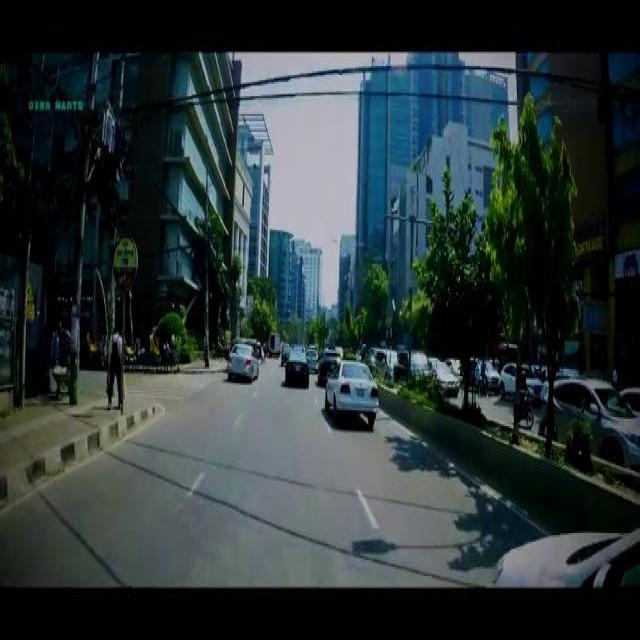bike: (511, 391, 533, 426)
vehicle: (539, 375, 640, 463), (325, 360, 380, 421), (498, 361, 542, 395), (394, 349, 436, 383), (227, 341, 259, 379), (431, 360, 460, 394), (285, 349, 309, 386), (473, 359, 500, 390), (307, 348, 318, 369)
